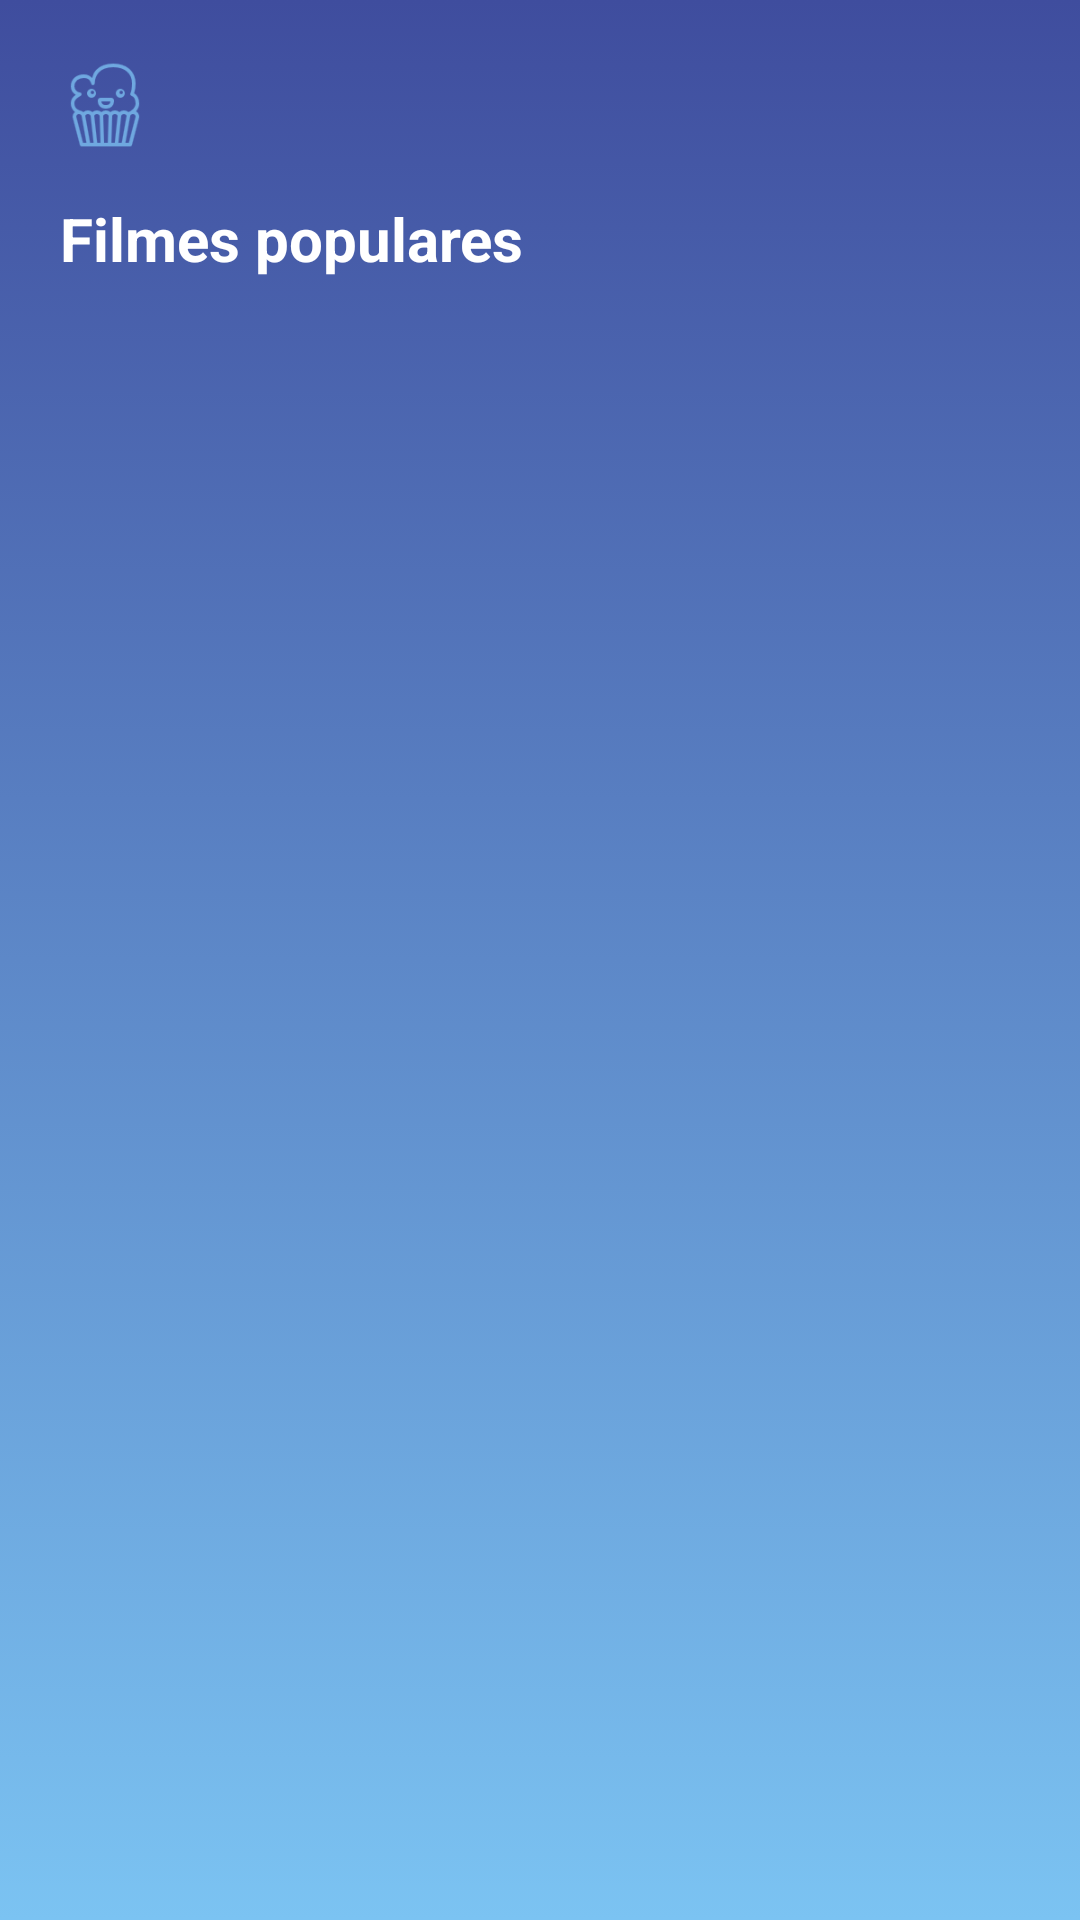

Icons on this 1080px x 1920px Android screen, each with the point to tap as [x,y]:
pop corn: [105,105]
